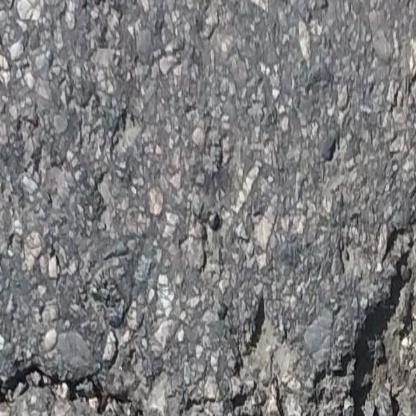Cracks: (310, 227, 416, 416), (0, 369, 290, 416)
